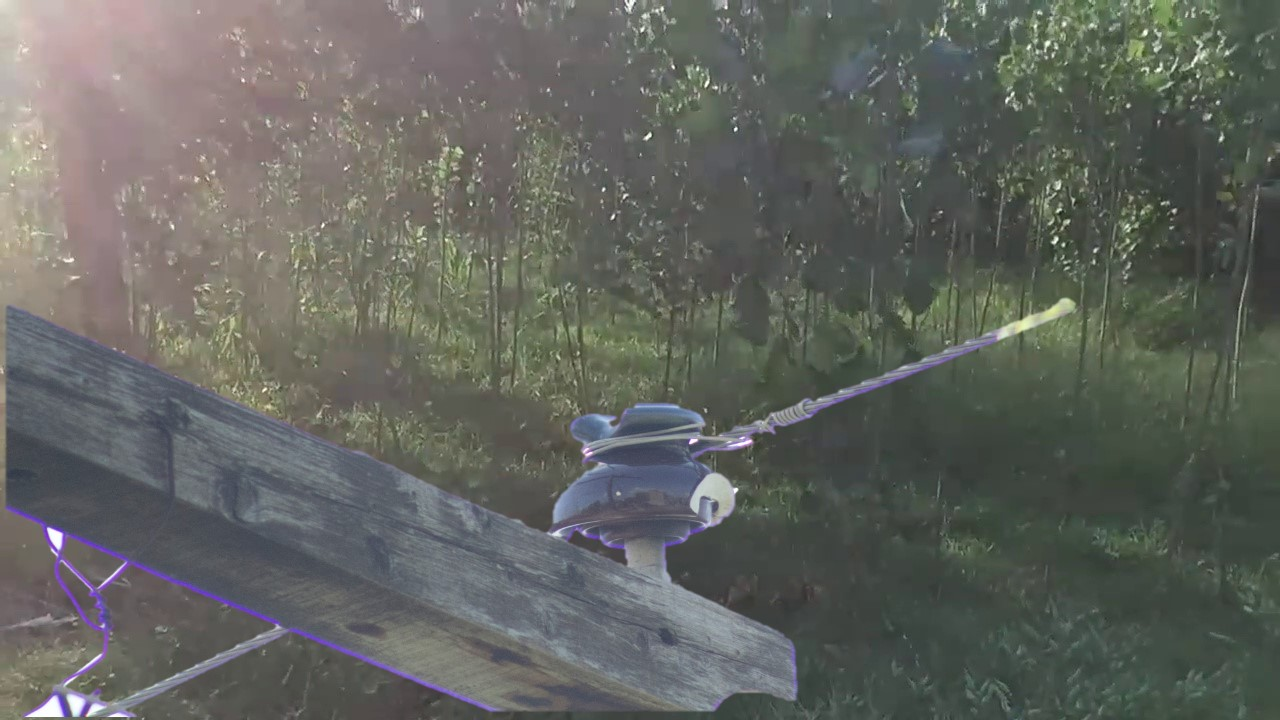defect_pin: (549, 393, 747, 550)
